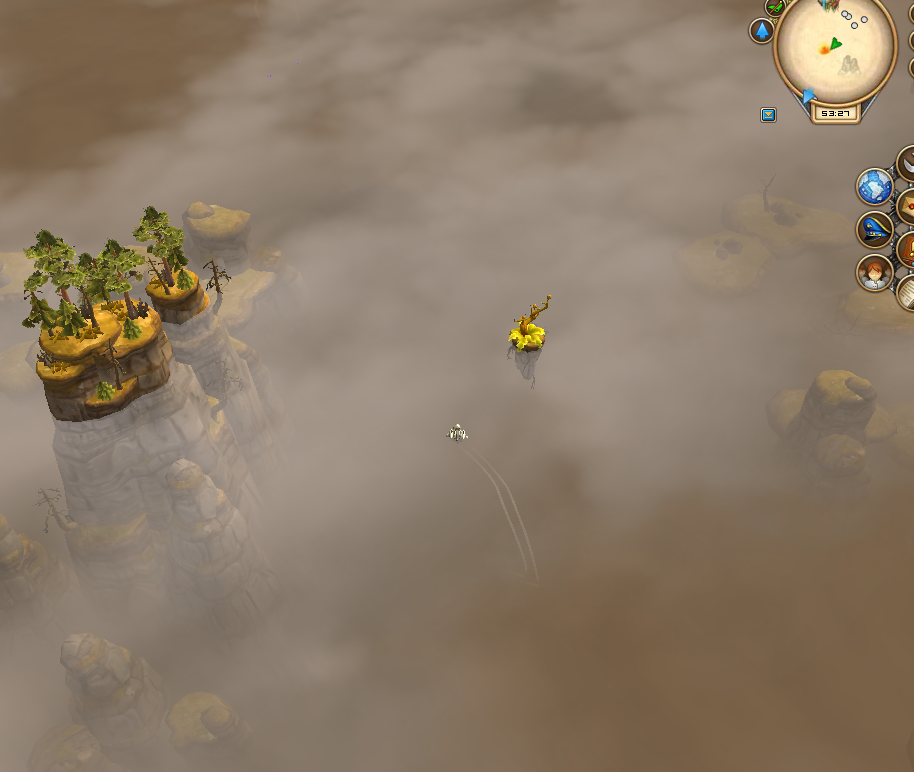dandelion-empty: (503, 290, 556, 385)
